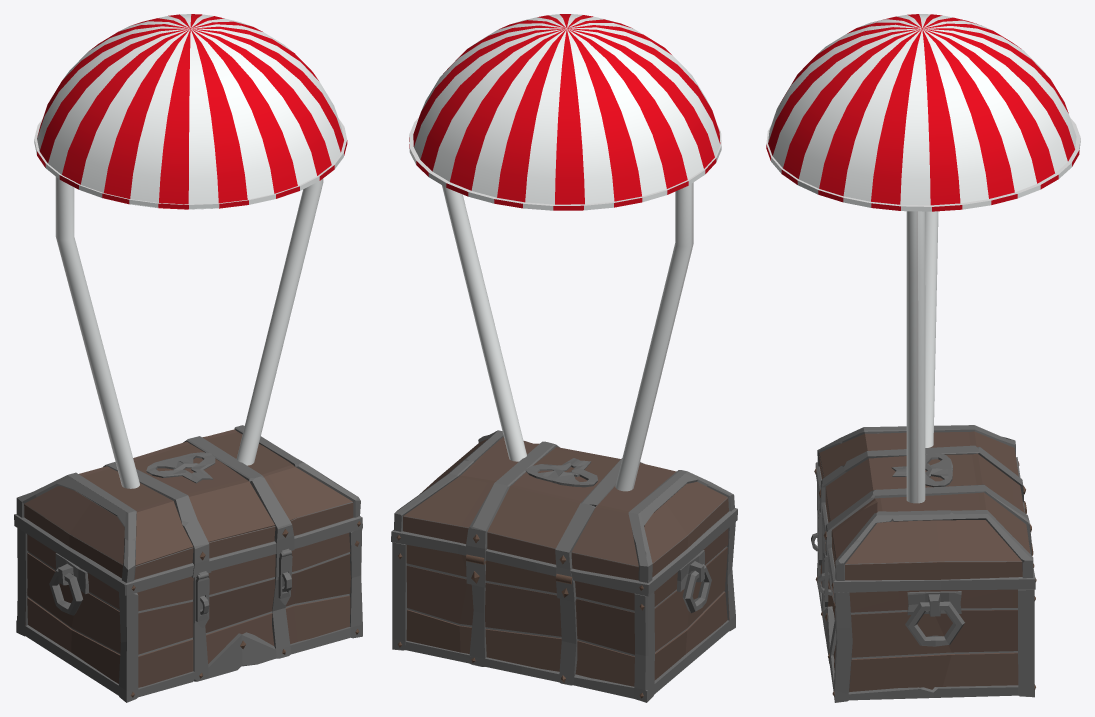
3 renders of one model, left to right at view 1: azimuth 30°, elevation 25°; view 2: azimuth 150°, elevation 25°; view 3: azimuth 270°, elevation 25°, orthographic.
Visible parts, largest first — view 1: chest.003, chest.002, Sphère.001, Sphère.002, Sphère.003, Sphère; view 2: chest.002, chest.003, Sphère.001, Sphère.002, Sphère.003, Sphère; view 3: chest.003, Sphère.001, Sphère.002, chest.002, Sphère.003, Sphère.
Part boxes in pixels (x1,y1,x2,y2): chest.003: [14, 425, 362, 627]; chest.002: [16, 528, 362, 702]; Sphère.001: [34, 14, 343, 209]; Sphère.002: [37, 14, 347, 209]; Sphère.003: [55, 177, 323, 488]; Sphère: [34, 118, 347, 487]; chest.002: [392, 522, 735, 702]; chest.003: [391, 430, 737, 596]; Sphère.001: [409, 14, 721, 210]; Sphère.002: [409, 14, 720, 210]; Sphère.003: [442, 182, 693, 491]; Sphère: [409, 117, 721, 489]; chest.003: [814, 425, 1036, 606]; Sphère.001: [768, 14, 1080, 211]; Sphère.002: [766, 14, 1079, 211]; chest.002: [811, 483, 1035, 702]; Sphère.003: [906, 211, 938, 503]; Sphère: [766, 117, 1080, 503].
Size of the model in its own units: 271 by 581 by 271.
